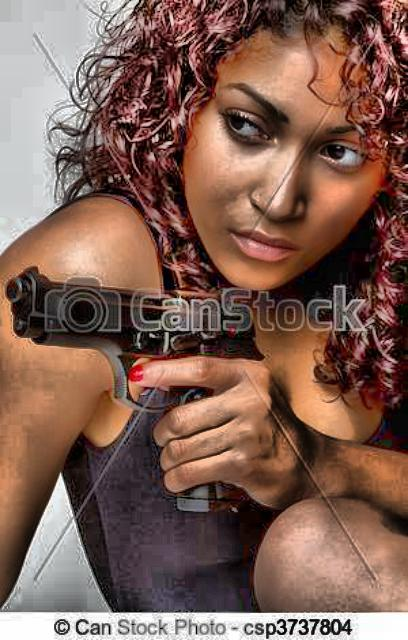pistol: (3, 264, 265, 512)
